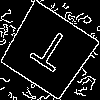T: (23, 26, 74, 81)
